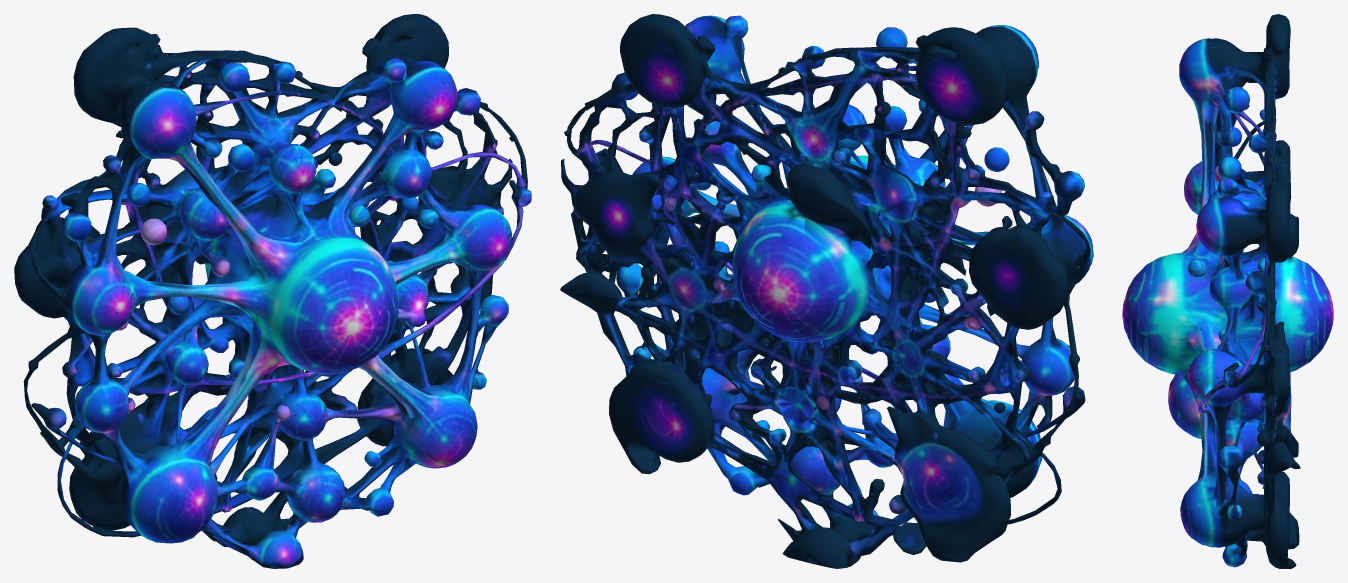
Rendered from neural-cluster.glb.
3 views of the same model, side by side, from view 1: azimuth 30°, elevation 25°; view 2: azimuth 150°, elevation 25°; view 3: azimuth 270°, elevation 25° (orthographic). The views are drawn at different scales.
Visible parts, largest first — view 1: world; view 2: world; view 3: world.
Part boxes in pixels (<box>): world: <box>14,14,531,568</box>; world: <box>560,14,1093,568</box>; world: <box>1122,14,1333,568</box>.
Size of the model in its own units: 0.9664 by 0.9997 by 0.4128.
1 material, 1 textured.
